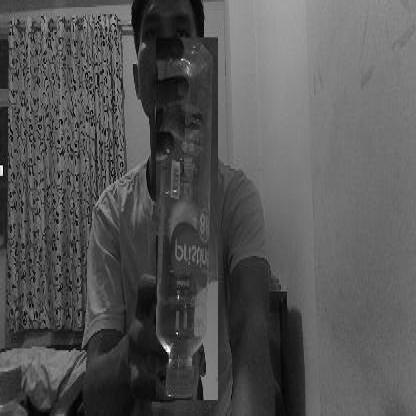plastic_bottles: (156, 37, 218, 400)
